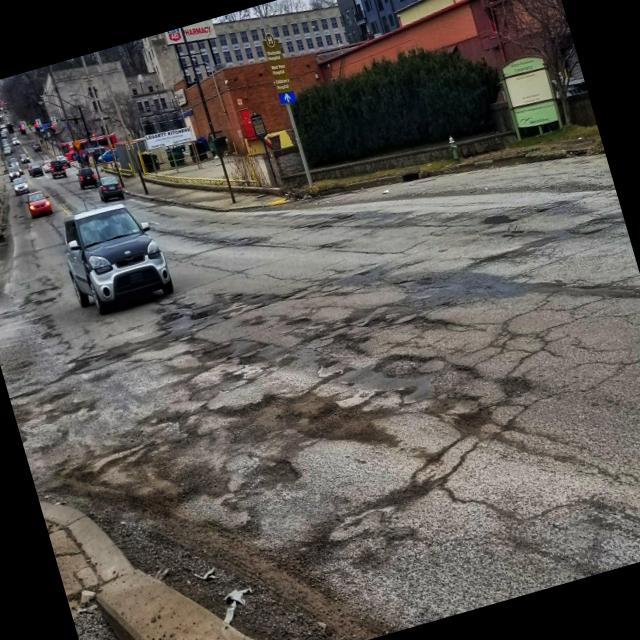Potholes: (18, 314, 480, 640), (158, 291, 224, 338), (476, 191, 520, 257)
